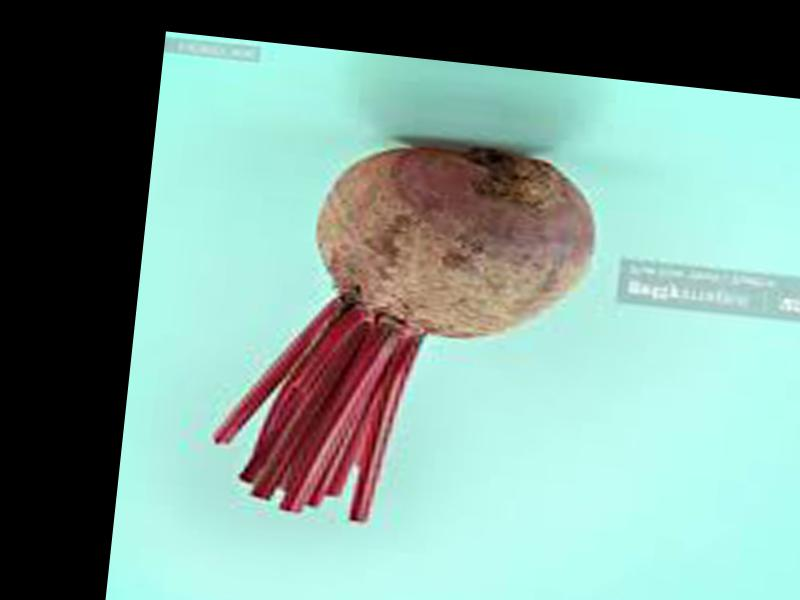Beet: (209, 122, 603, 539)
